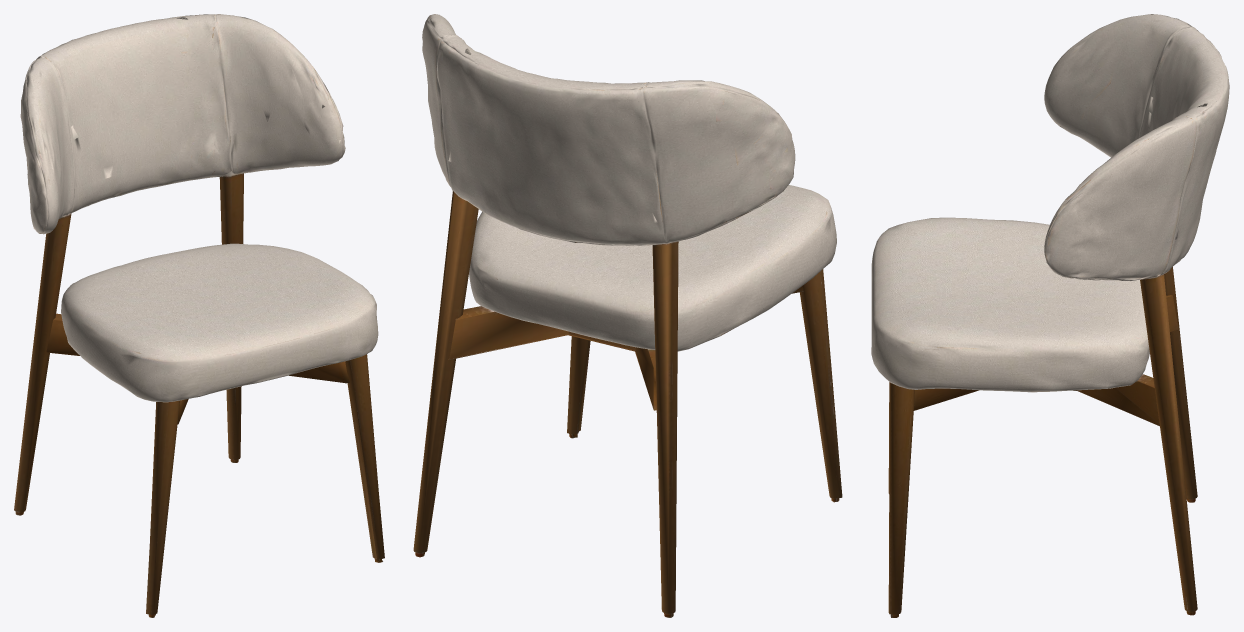
Rendered from dining-chair.min.glb.
3 renders of one model, left to right at view 1: azimuth 30°, elevation 25°; view 2: azimuth 150°, elevation 25°; view 3: azimuth 270°, elevation 25°, orthographic. The views are drawn at different scales.
Size of the model in its own units: 0.6675 by 0.9512 by 0.6353.
1 material, 1 textured.
